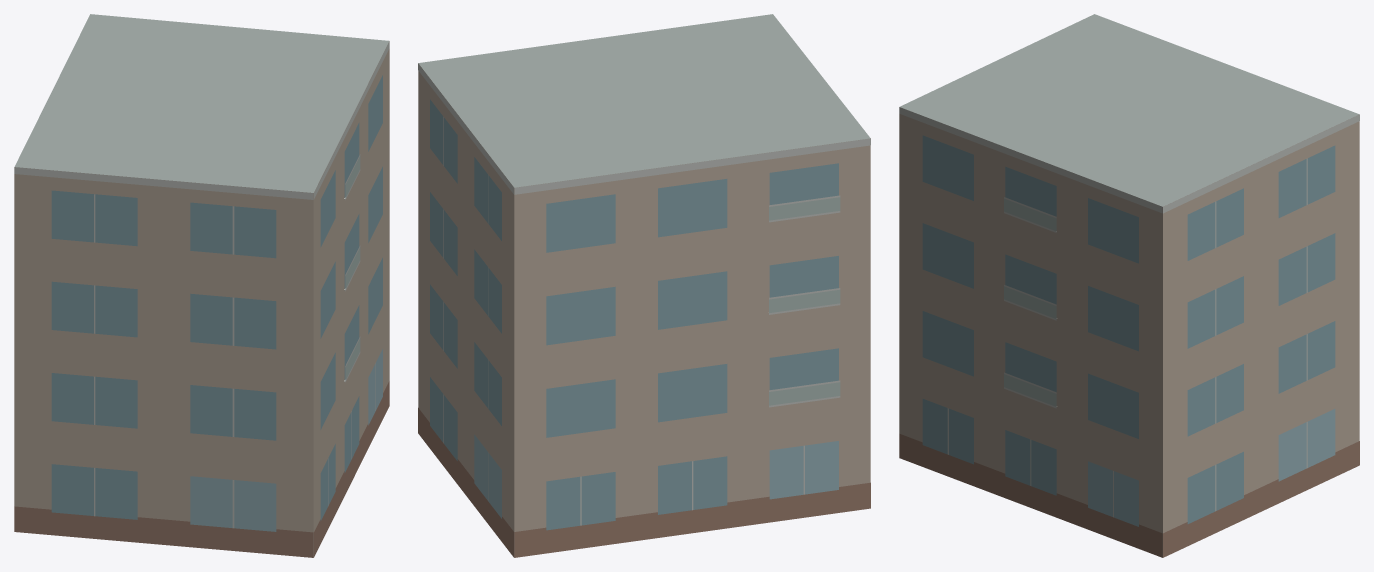
Rendered from survey-upis-32924467.glb.
3 renders of one model, left to right at view 1: azimuth 30°, elevation 25°; view 2: azimuth 150°, elevation 25°; view 3: azimuth 270°, elevation 25°, orthographic. The views are drawn at different scales.
Parts seen in each view (by area): view 1: survey-upis-32924467.tmp; view 2: survey-upis-32924467.tmp; view 3: survey-upis-32924467.tmp.
Boxes of the visible parts, x1=… form: survey-upis-32924467.tmp: x1=14, y1=14, x2=389, y2=557; survey-upis-32924467.tmp: x1=418, y1=14, x2=870, y2=557; survey-upis-32924467.tmp: x1=899, y1=14, x2=1359, y2=557.
Size of the model in its own units: 14.97 by 12.7 by 15.1.
